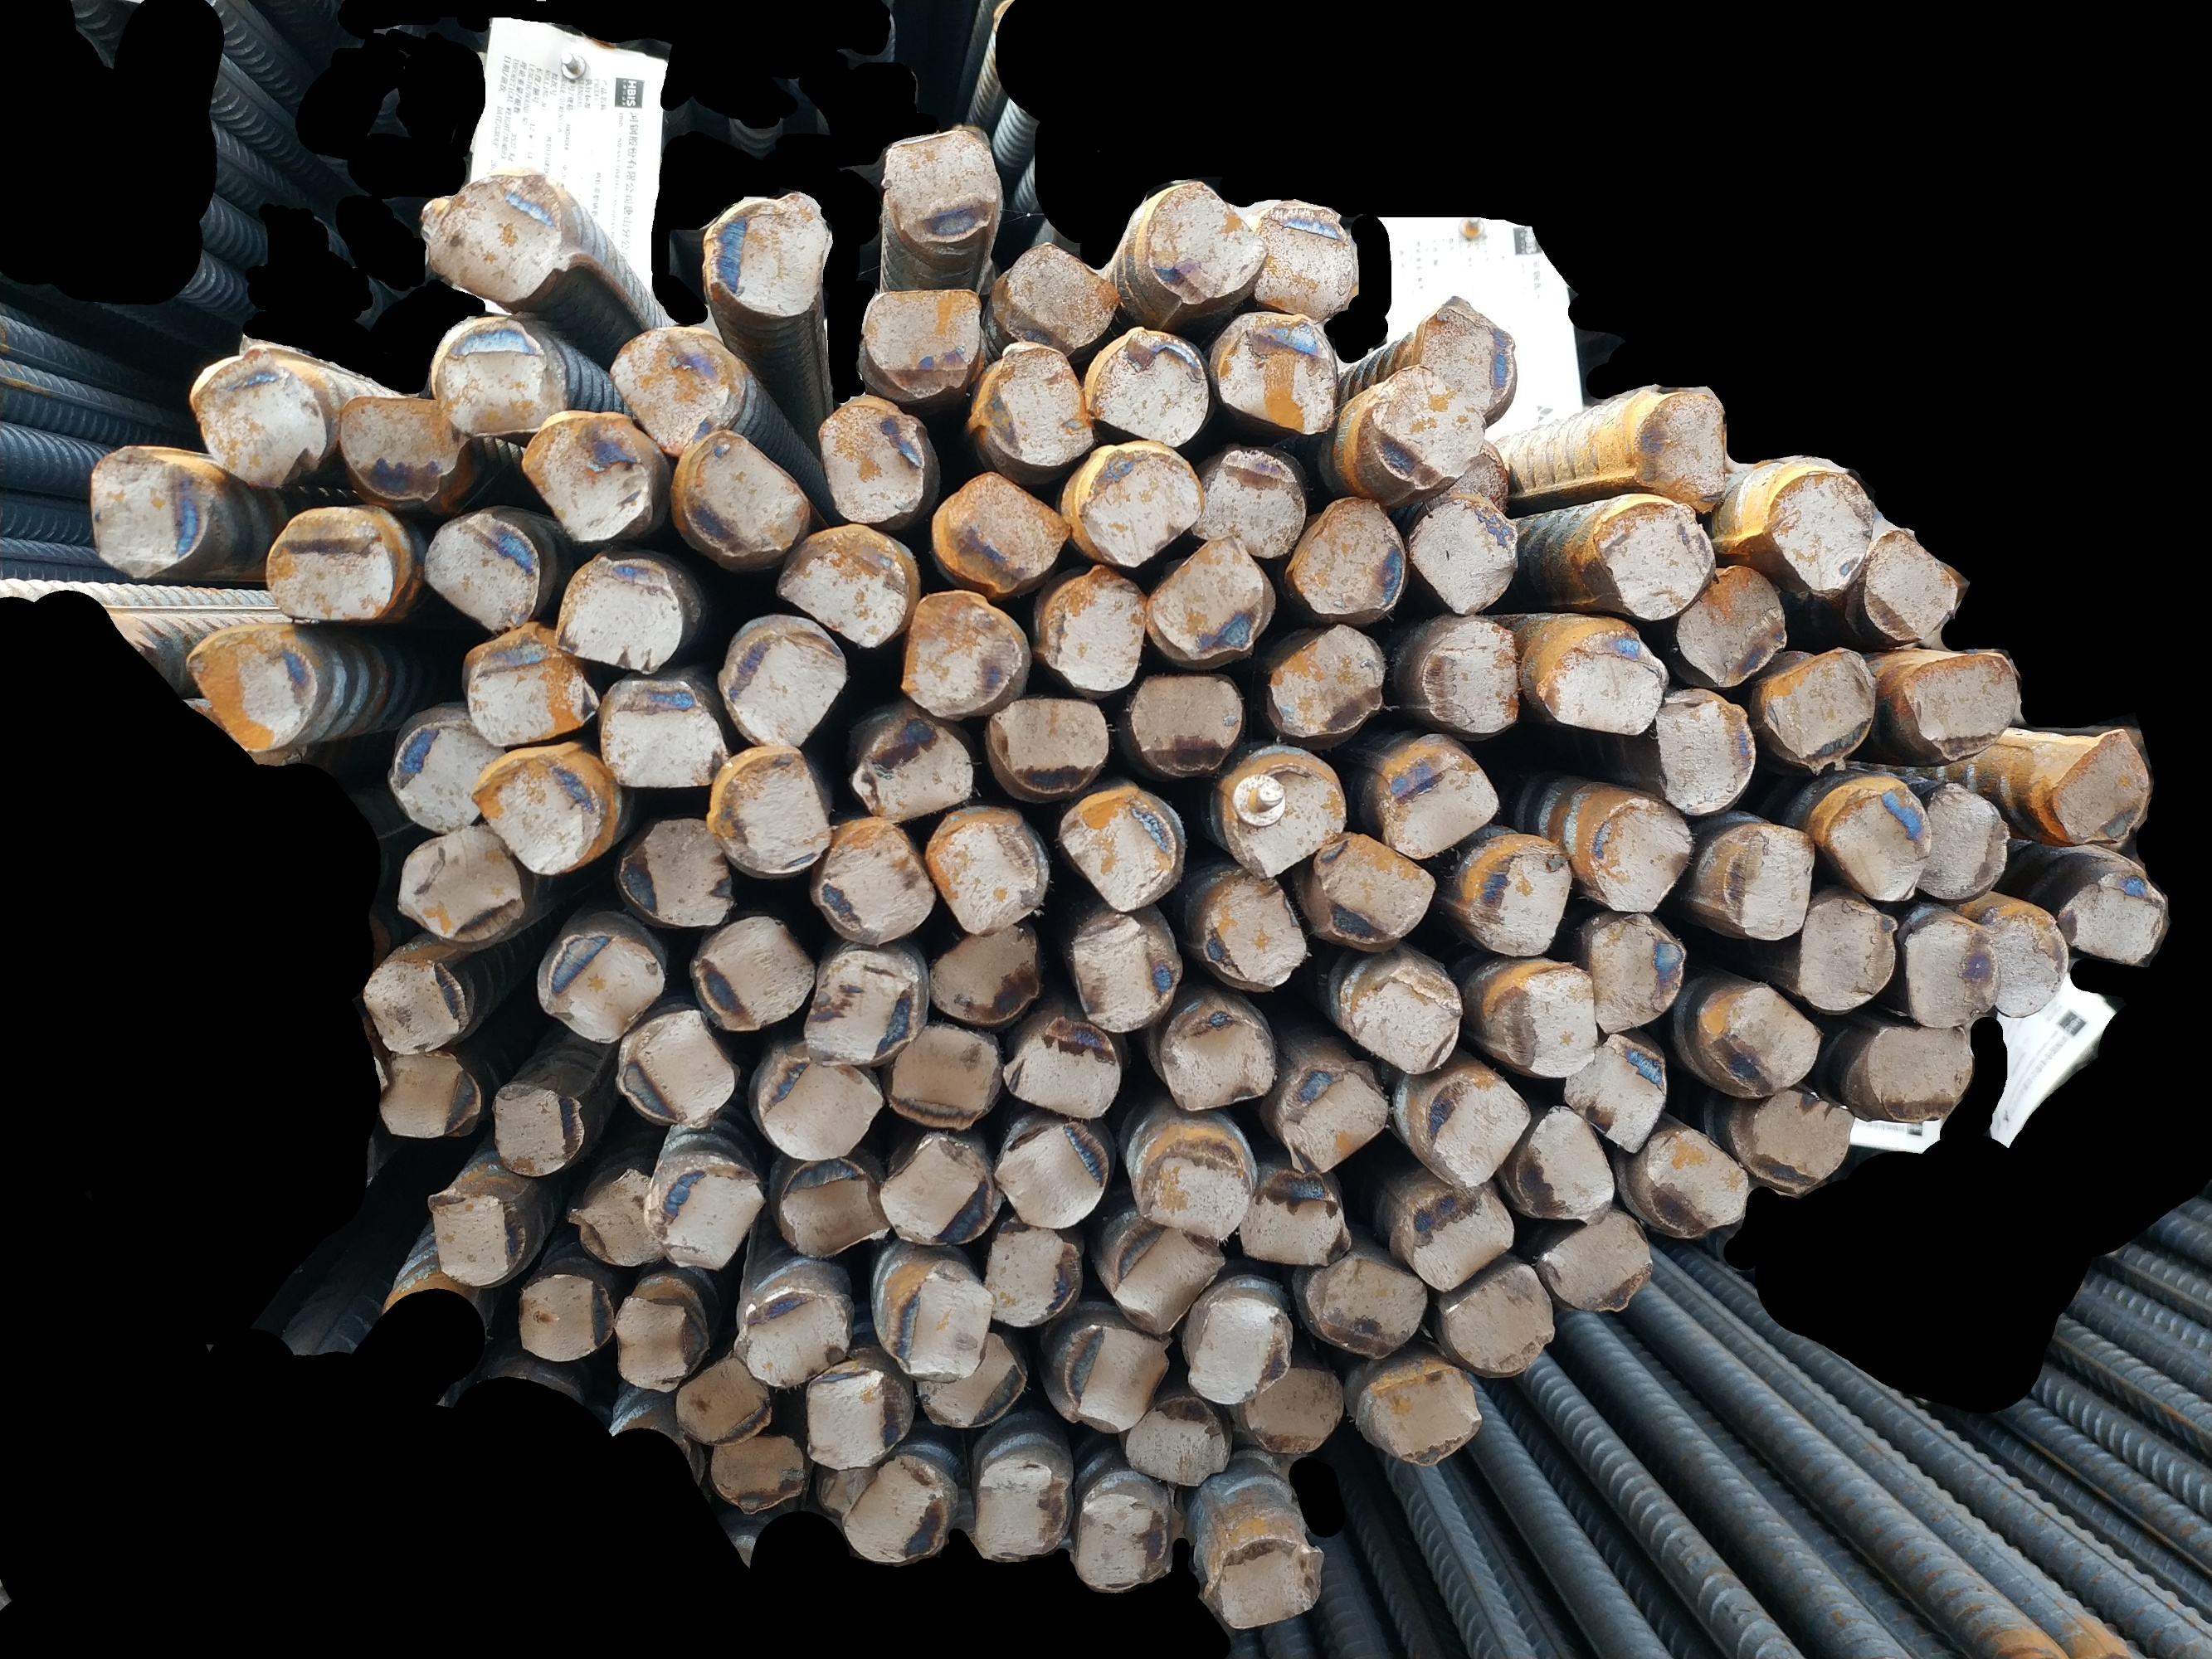rebar: (169, 331, 336, 498), (410, 159, 582, 312), (460, 746, 629, 882), (70, 432, 220, 584), (174, 624, 331, 765), (1198, 744, 1354, 884), (924, 462, 1082, 599), (504, 410, 659, 549), (692, 181, 840, 326), (709, 610, 854, 758), (404, 308, 560, 444), (596, 319, 743, 462), (675, 418, 812, 570), (444, 626, 603, 755), (1133, 171, 1279, 310), (812, 1445, 973, 1572), (772, 516, 920, 653), (580, 664, 736, 795), (1067, 437, 1211, 575), (598, 999, 743, 1136), (1138, 526, 1276, 669), (1586, 486, 1724, 629), (694, 744, 837, 882), (317, 383, 479, 504), (797, 934, 934, 1075), (753, 1028, 889, 1171), (546, 549, 694, 680), (383, 821, 533, 950), (1276, 488, 1414, 627), (1302, 824, 1445, 958), (847, 281, 997, 408), (1049, 782, 1191, 917), (880, 120, 1009, 267), (260, 505, 408, 633), (1759, 451, 1883, 603), (406, 502, 542, 640), (1210, 300, 1340, 441), (971, 335, 1103, 472), (1687, 978, 1829, 1107), (1532, 617, 1675, 744), (1081, 321, 1213, 457), (373, 709, 512, 838), (805, 819, 940, 951), (1668, 556, 1797, 694), (682, 913, 823, 1039), (1123, 657, 1255, 789), (1400, 484, 1523, 626), (1750, 640, 1884, 769), (899, 584, 1027, 720), (612, 807, 741, 939), (1250, 183, 1363, 333), (814, 385, 933, 528), (1180, 436, 1311, 565), (1811, 775, 1940, 906), (1037, 554, 1152, 701), (1370, 742, 1504, 868), (1187, 866, 1313, 1000), (1626, 376, 1743, 519), (976, 685, 1119, 802), (1297, 1248, 1440, 1364), (1579, 901, 1694, 1046), (1260, 620, 1391, 748), (917, 810, 1049, 936), (873, 1129, 1008, 1253), (1069, 903, 1191, 1039), (845, 709, 985, 828), (1642, 687, 1761, 826), (2032, 725, 2160, 854), (1365, 362, 1487, 497), (1896, 648, 2032, 769), (1332, 958, 1468, 1079), (1412, 282, 1520, 432), (1269, 1054, 1398, 1180), (995, 235, 1126, 359), (537, 929, 669, 1051), (1787, 882, 1905, 1018), (1042, 1323, 1180, 1439), (987, 1110, 1114, 1236), (1394, 1175, 1520, 1302), (1586, 784, 1701, 922), (774, 1145, 899, 1269), (1105, 1216, 1231, 1340), (920, 911, 1048, 1033), (1555, 1030, 1677, 1157), (992, 1007, 1126, 1122), (1909, 770, 2019, 910), (1177, 1284, 1299, 1410), (1135, 1115, 1255, 1243), (1435, 1258, 1564, 1377), (647, 1150, 763, 1281), (1856, 512, 1966, 650), (1454, 838, 1576, 962), (1858, 1009, 1982, 1131), (1072, 1453, 1175, 1600), (1710, 814, 1820, 950), (795, 1356, 919, 1476), (1635, 1121, 1755, 1241), (1157, 1002, 1281, 1119), (1534, 1209, 1661, 1323), (1966, 894, 2076, 1025), (732, 1281, 858, 1394), (964, 1445, 1075, 1572), (2050, 859, 2170, 976), (1492, 962, 1609, 1082), (882, 1019, 1004, 1134), (359, 1044, 497, 1145), (1900, 908, 2010, 1033), (352, 950, 474, 1061), (1738, 1077, 1860, 1188), (1415, 619, 1525, 742), (1522, 1096, 1621, 1232), (1196, 1532, 1327, 1635), (981, 1215, 1091, 1335), (894, 1262, 999, 1387), (908, 1331, 1034, 1436), (1358, 1364, 1482, 1469), (565, 1159, 675, 1276), (1123, 1385, 1238, 1493), (1415, 1075, 1530, 1182), (418, 1182, 525, 1295), (600, 1286, 704, 1399), (1239, 1356, 1349, 1462), (1238, 1180, 1358, 1276), (671, 1349, 779, 1452), (485, 1079, 594, 1180), (511, 1270, 624, 1368), (701, 1432, 819, 1523), (1435, 429, 1525, 528)
